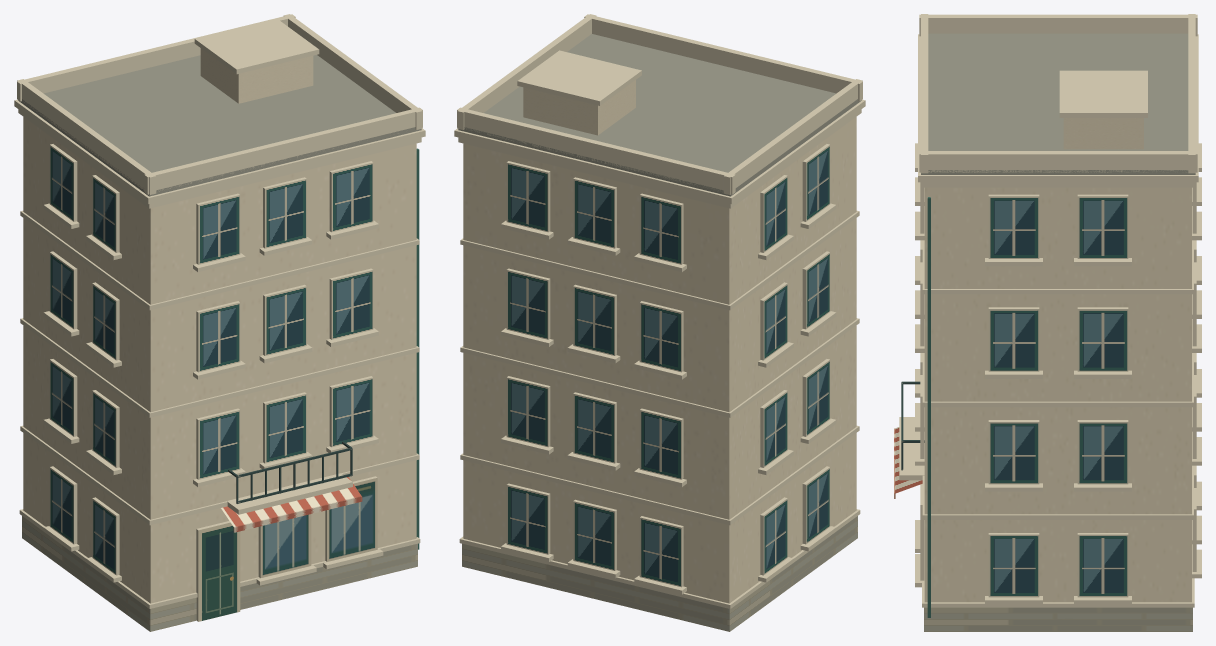
Rendered from SM_QD_F_Apartment4F.fbx.
The picture shows the model from 3 angles, left to right: view 1: azimuth 30°, elevation 25°; view 2: azimuth 150°, elevation 25°; view 3: azimuth 270°, elevation 25°; orthographic projection. The views are drawn at different scales.
Parts seen in each view (by area): view 1: SM_QD_F_Apartment4F; view 2: SM_QD_F_Apartment4F; view 3: SM_QD_F_Apartment4F.
Part boxes in pixels (x1,y1,x2,y2): SM_QD_F_Apartment4F: (14,14,425,631); SM_QD_F_Apartment4F: (454,14,865,631); SM_QD_F_Apartment4F: (894,14,1201,631).
Size of what is drawn, in the model's own units: 7.43 by 6.68 by 12.01.
Materials: 1 (1 with a texture image).
